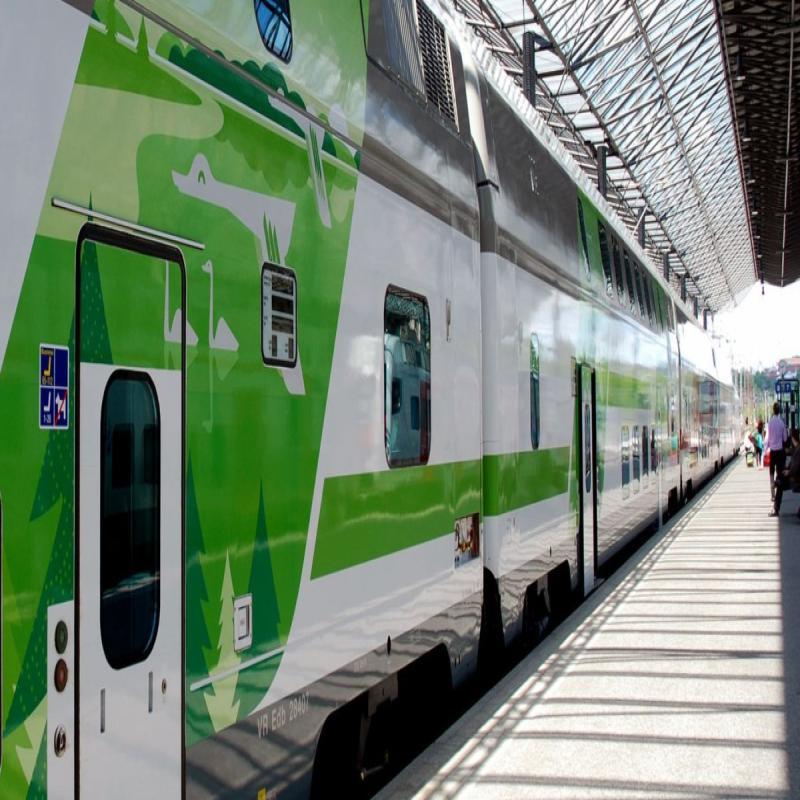train: (462, 18, 729, 621)
